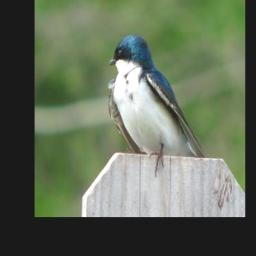Swallow: (106, 32, 207, 178)
